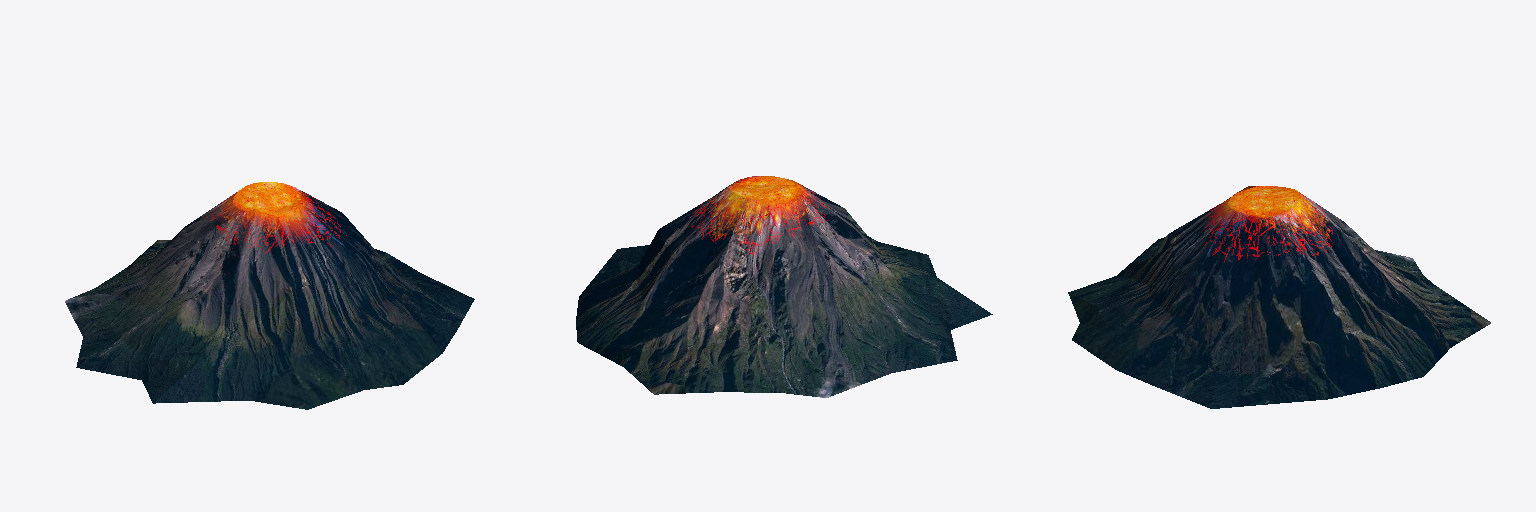
3 views of the same model, side by side, from view 1: azimuth 30°, elevation 25°; view 2: azimuth 150°, elevation 25°; view 3: azimuth 270°, elevation 25° (orthographic).
Visible parts, largest first — view 1: volcan:pCone1; view 2: volcan:pCone1; view 3: volcan:pCone1.
Part boxes in pixels (bbox=[...]): volcan:pCone1: bbox=[65, 182, 474, 409]; volcan:pCone1: bbox=[576, 176, 992, 397]; volcan:pCone1: bbox=[1068, 186, 1490, 408].
Size of the model in its own units: 17.95 by 5.86 by 17.84.
Materials: 1 (1 with a texture image).